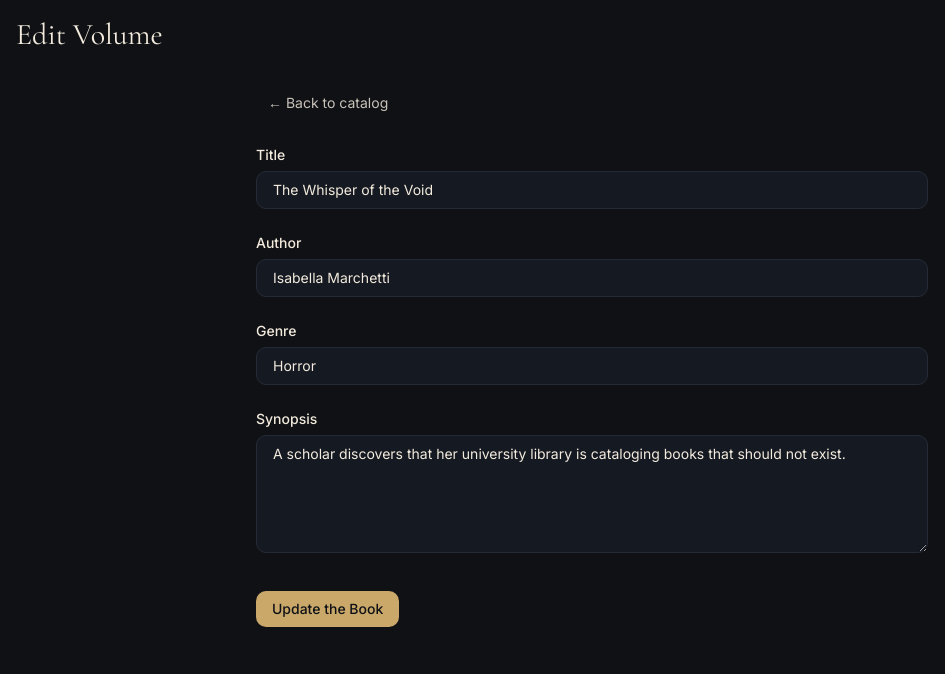
EditBookPage › shows validation errors and stays on the page when a required field is cleared
The width and height of the screenshot is (945, 674).
Clear the field labelled "Title" at (592, 190), box [256, 171, 928, 209]
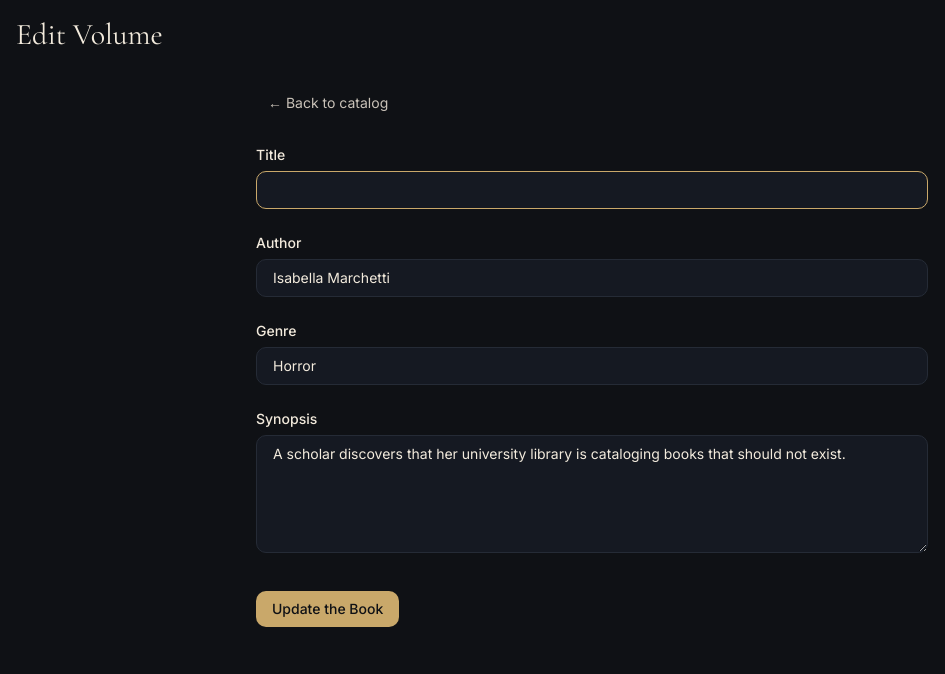
Click the button "Update the Book" at (328, 609), box [256, 591, 399, 627]
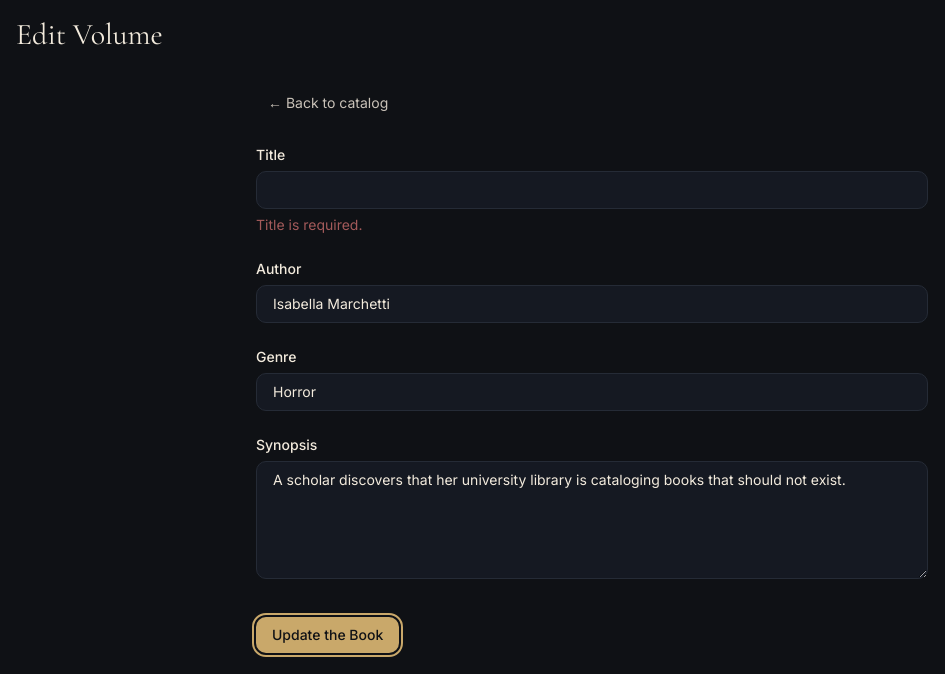
Check: the heading "Edit Volume" is shown, box [16, 16, 163, 53]
Check: the text "Title is required." is shown, box [256, 216, 362, 233]
